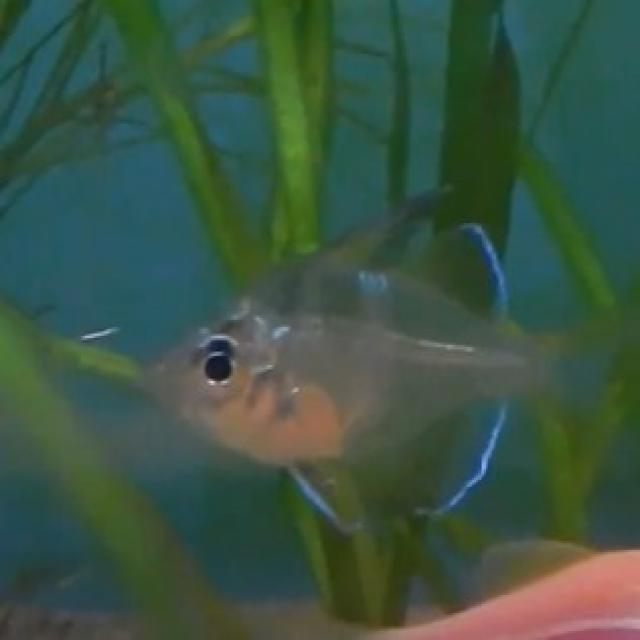Glass-Perchlet: (118, 180, 611, 548)
